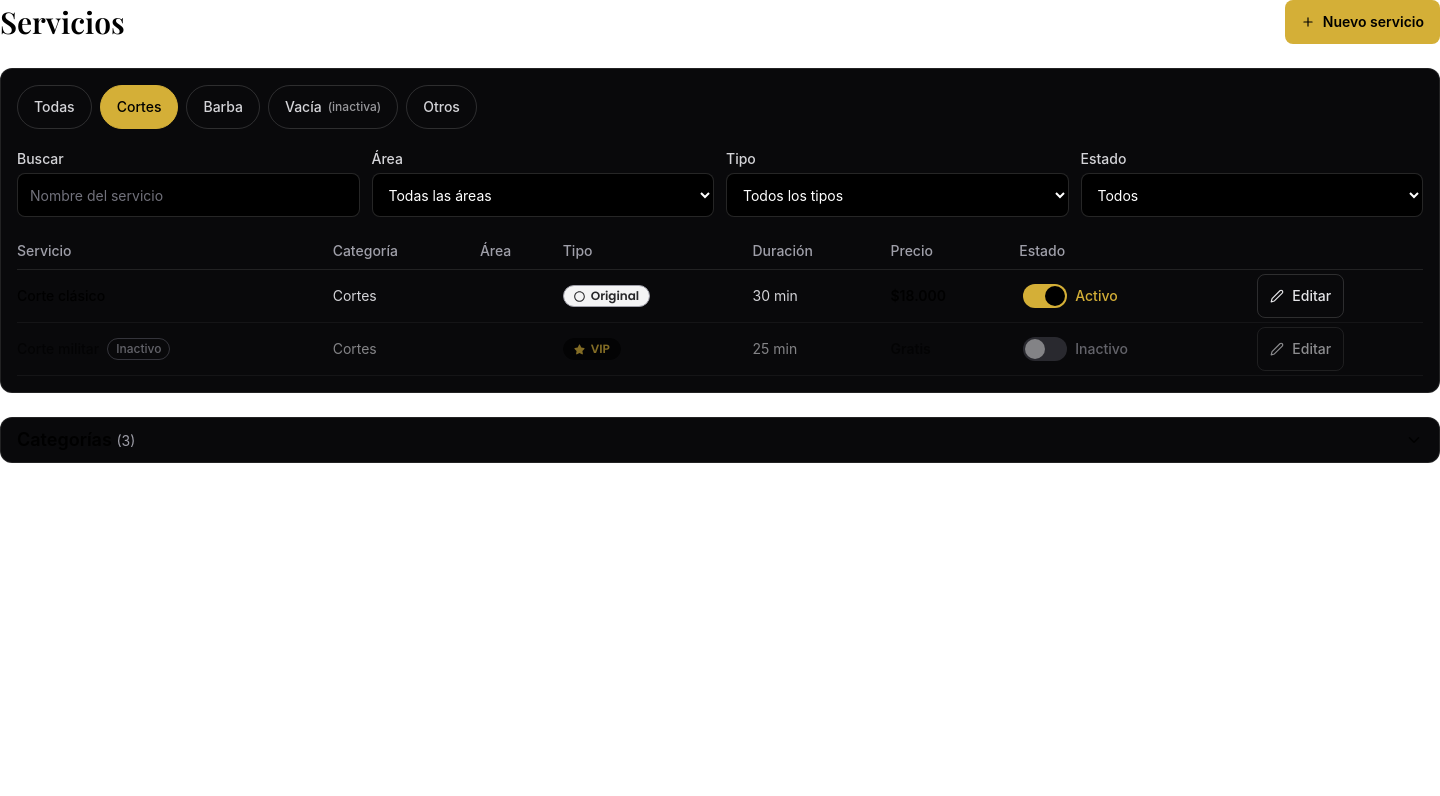
it: Servicios: tarjetas (móvil) y tabla (escritorio) › escritorio: editar abre el formulario en un panel lateral (no a pantalla completa)
The width and height of the screenshot is (1440, 796).
Click the button with aria-label "Editar Corte clásico": click(1301, 296) [1257,274,1344,318]
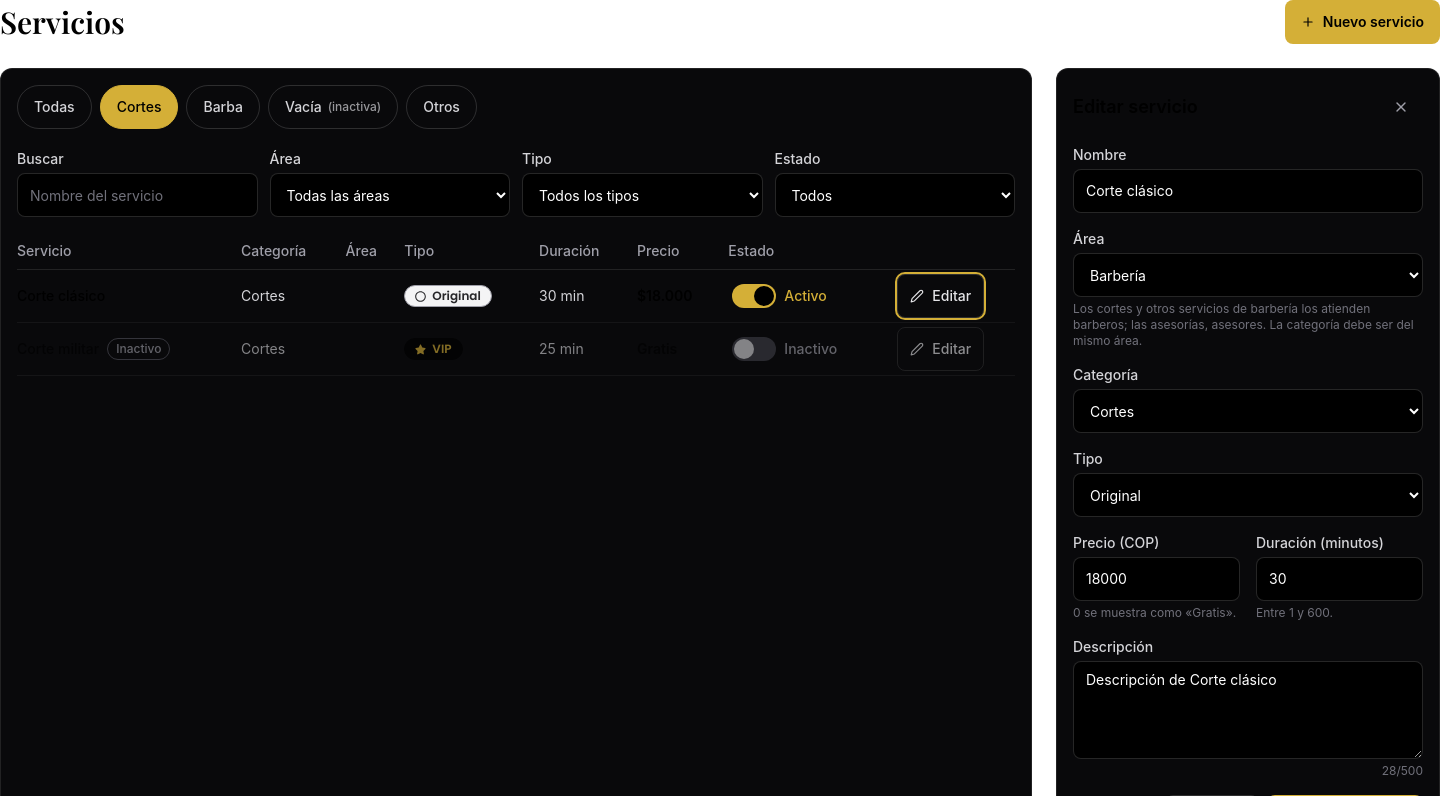
Check: the table is shown, box [17,233,1015,376]
Check: the field labelled "Nombre" holds "Corte clásico", box [1073,169,1423,213]
